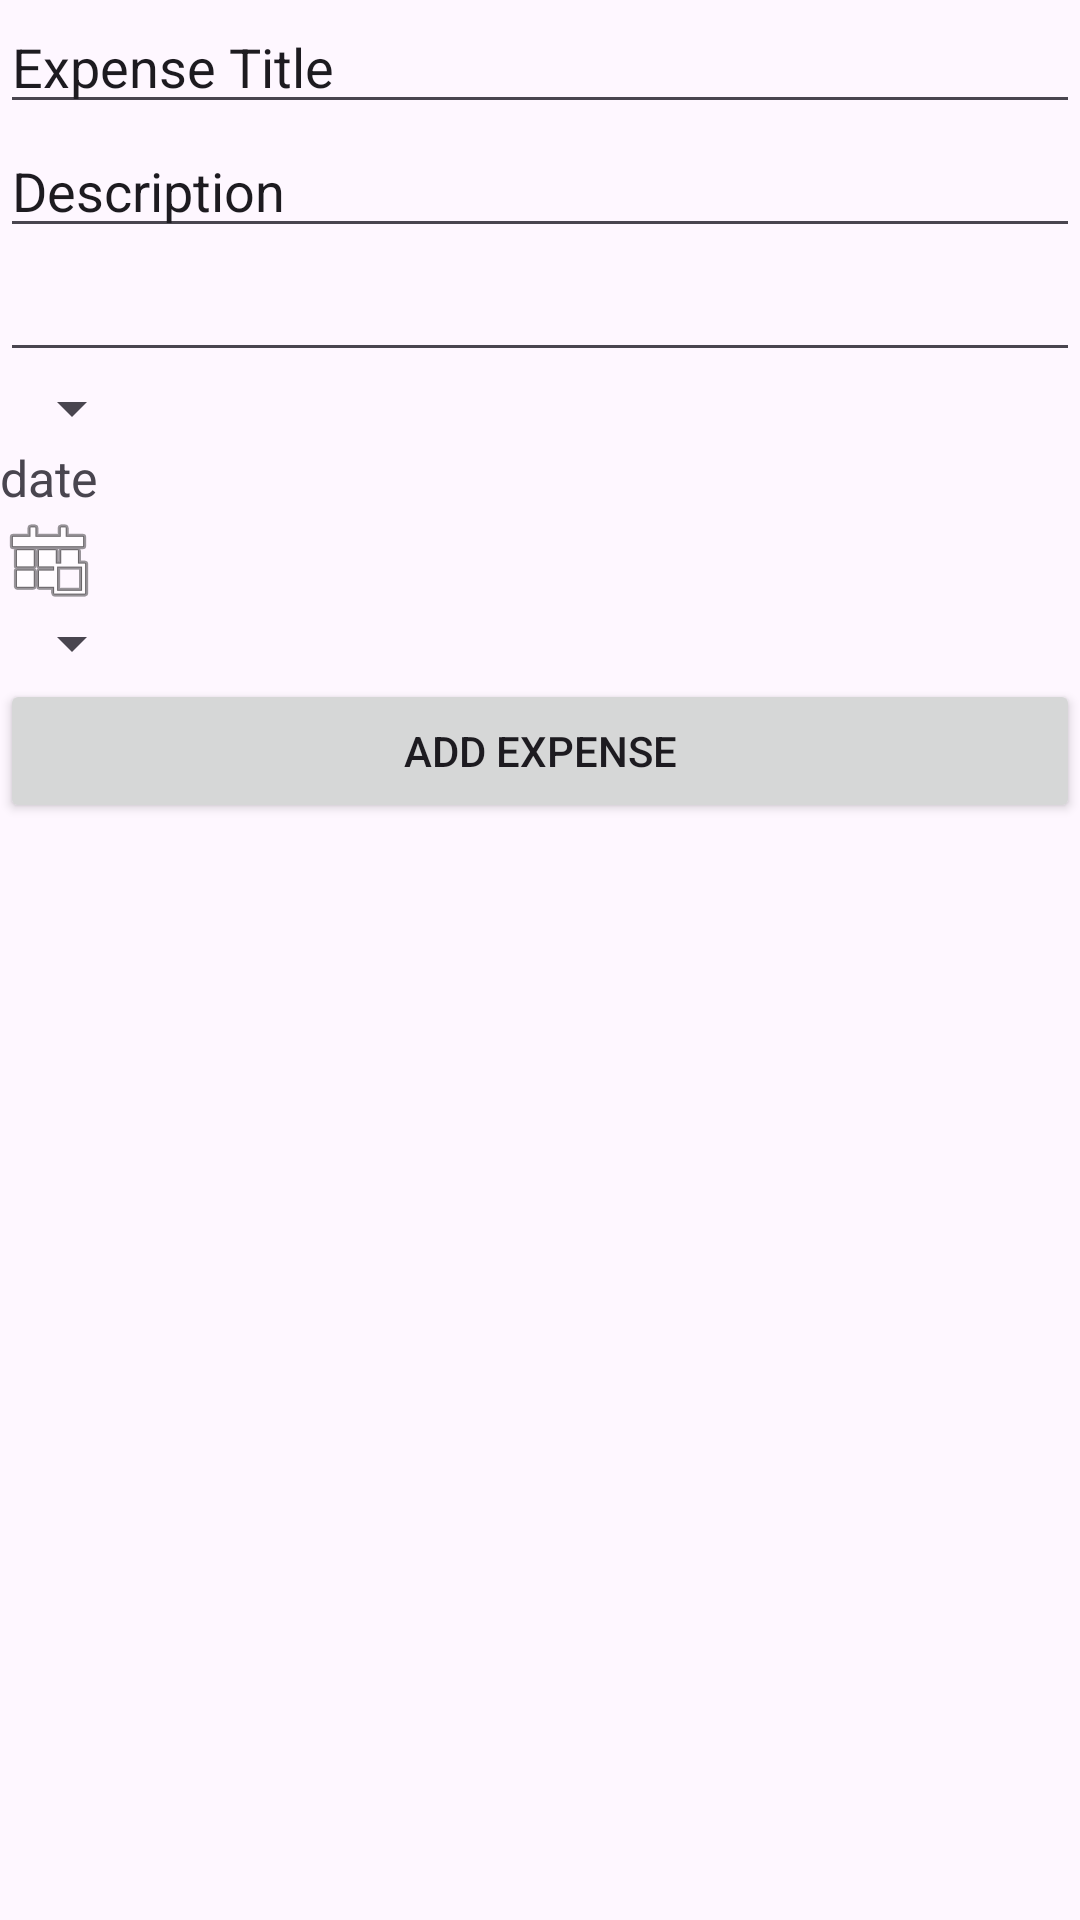

Screen size 1080w x 1920h. Icon name, then its box in pixels as detection(x1, y1, x2, y2):
today: detection(10, 524, 88, 597)
